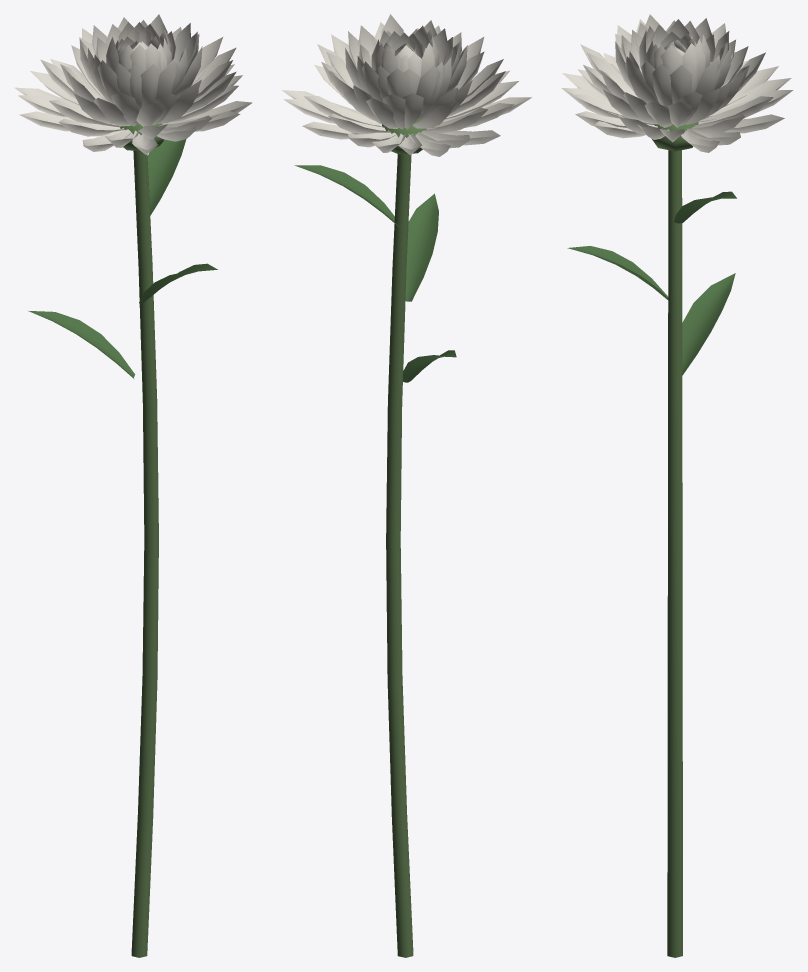
File: mum.glb
The picture shows the model from 3 angles, left to right: view 1: azimuth 30°, elevation 25°; view 2: azimuth 150°, elevation 25°; view 3: azimuth 270°, elevation 25°; orthographic projection.
Visible parts, largest first — view 1: mum; view 2: mum; view 3: mum.
Boxes of the visible parts, <box> form: mum: <box>14,14,252,957</box>; mum: <box>281,14,531,957</box>; mum: <box>561,14,793,957</box>.
Bounding box in the file's own units: 0.0868 × 0.3604 × 0.0824.
